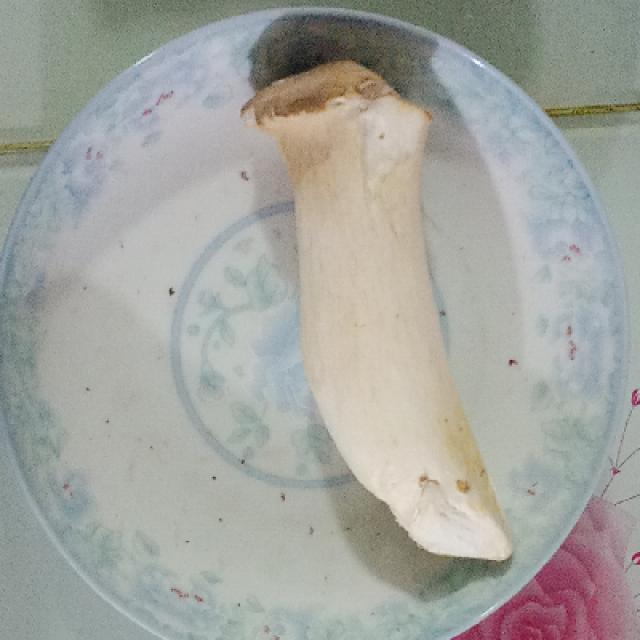Pleurotus eryngii: (248, 63, 516, 565)
